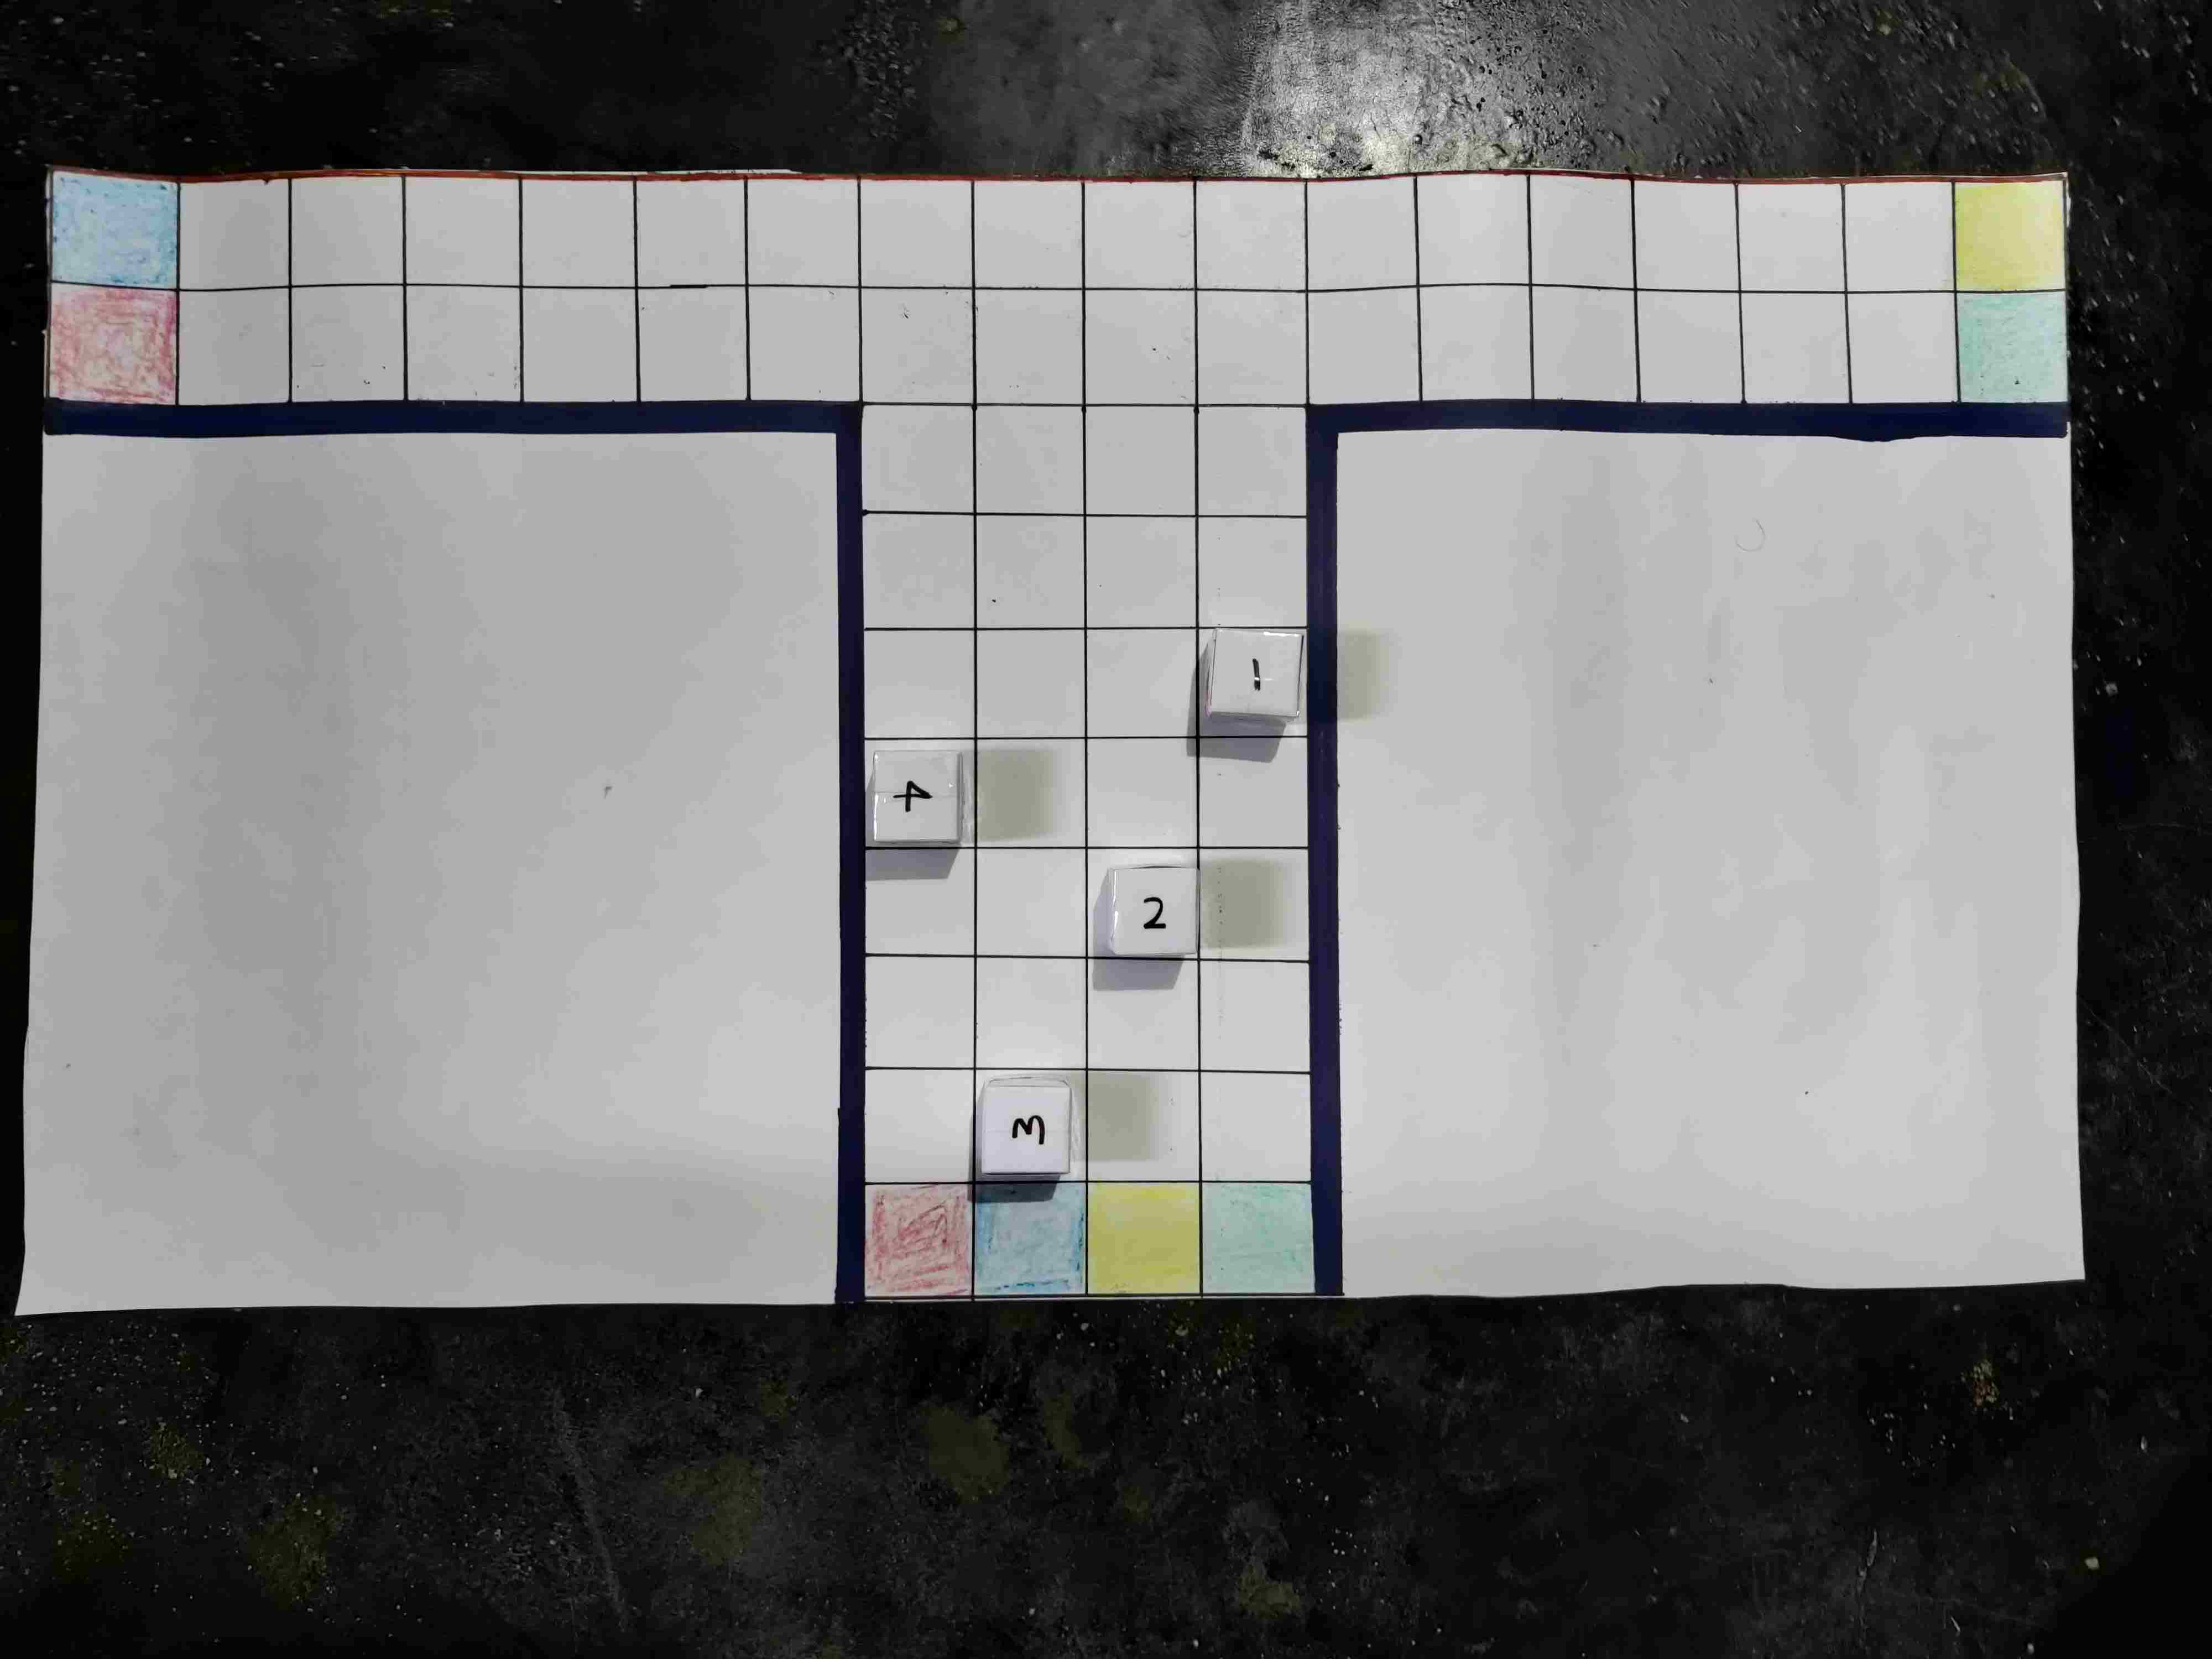arena: (84, 268, 2027, 1363)
bot: (820, 362, 911, 451), (1926, 1168, 2015, 1255), (1043, 1047, 1123, 1141), (921, 493, 1010, 573)
